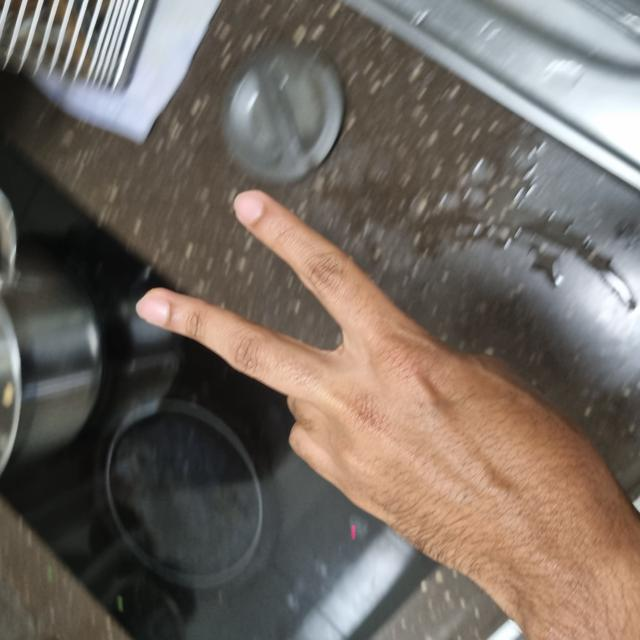Scissors: (30, 141, 446, 621)
